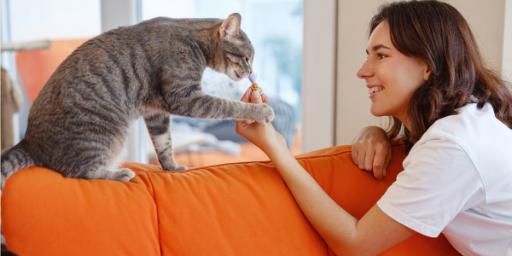cat_sitting: (3, 13, 273, 188)
